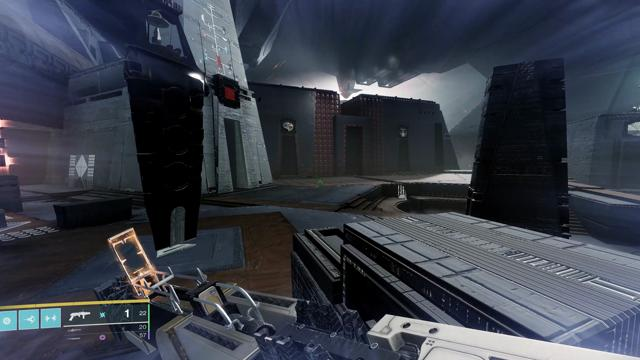brain: (281, 120, 295, 133)
commune: (628, 121, 640, 136)
drink: (399, 126, 408, 138)
stop: (221, 83, 239, 105)
